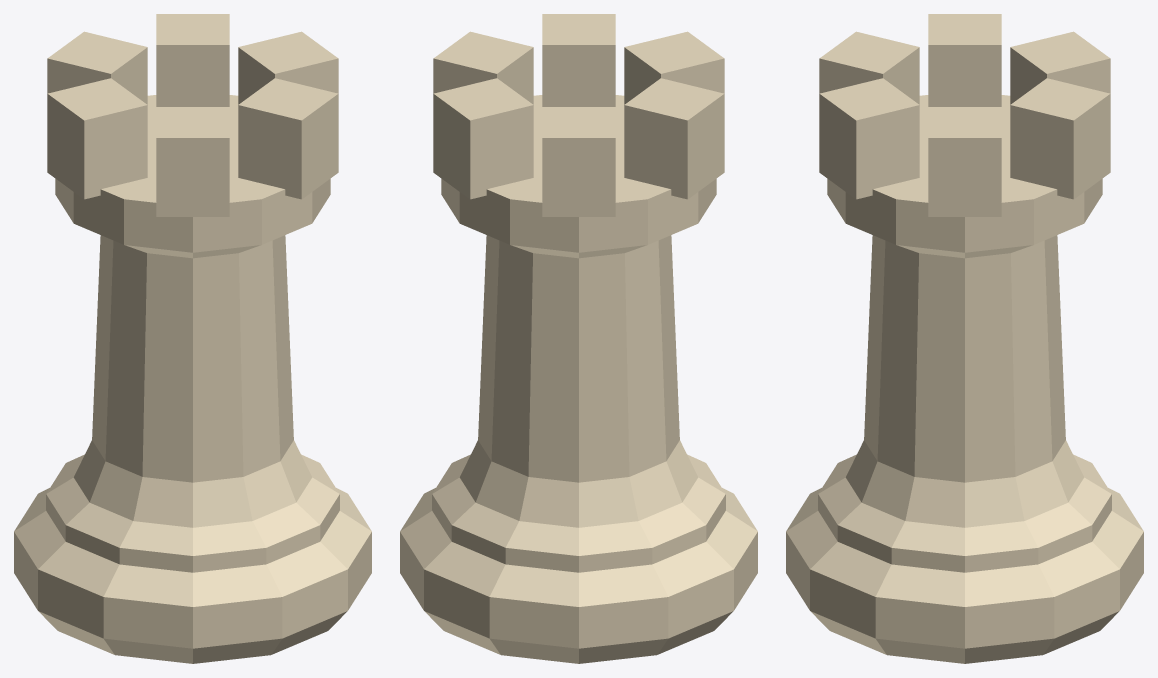
The model's file is rook.glb.
3 views of the same model, side by side, from view 1: azimuth 30°, elevation 25°; view 2: azimuth 150°, elevation 25°; view 3: azimuth 270°, elevation 25° (orthographic).
Parts seen in each view (by area): view 1: rook; view 2: rook; view 3: rook.
Boxes of the visible parts, x1,y1,x2,y2 form: rook: (14, 14, 371, 663); rook: (400, 14, 757, 663); rook: (786, 14, 1143, 663).
Size of the model in its own units: 0.78 by 1.25 by 0.78.
